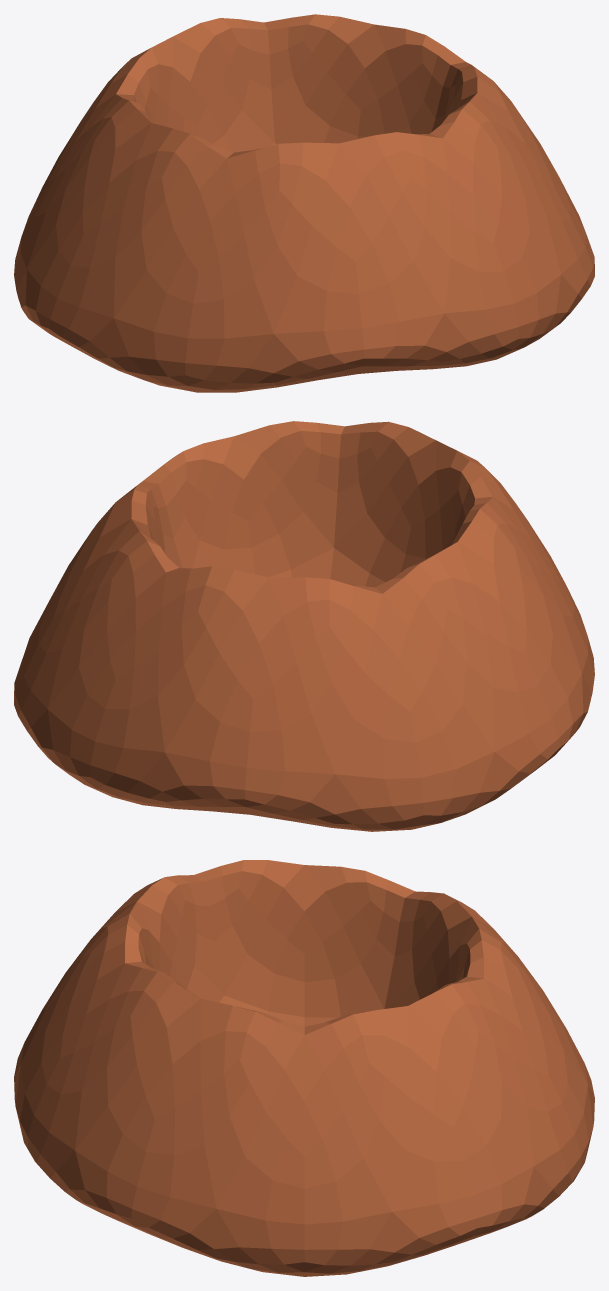
File: Vulcano big 1.fbx
3 renders of one model, top to bottom at view 1: azimuth 30°, elevation 25°; view 2: azimuth 150°, elevation 25°; view 3: azimuth 270°, elevation 25°, orthographic.
Visible parts, largest first — view 1: Icosphere.004; view 2: Icosphere.004; view 3: Icosphere.004.
Part boxes in pixels (x1,y1,x2,y2): Icosphere.004: (14,14,594,392); Icosphere.004: (14,421,594,831); Icosphere.004: (14,860,594,1276).
Size of the model in its own units: 1955 by 904 by 1941.
